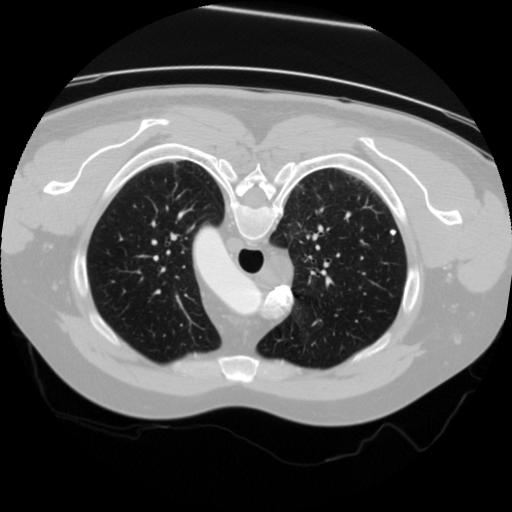nodule: (387, 227, 401, 241)
